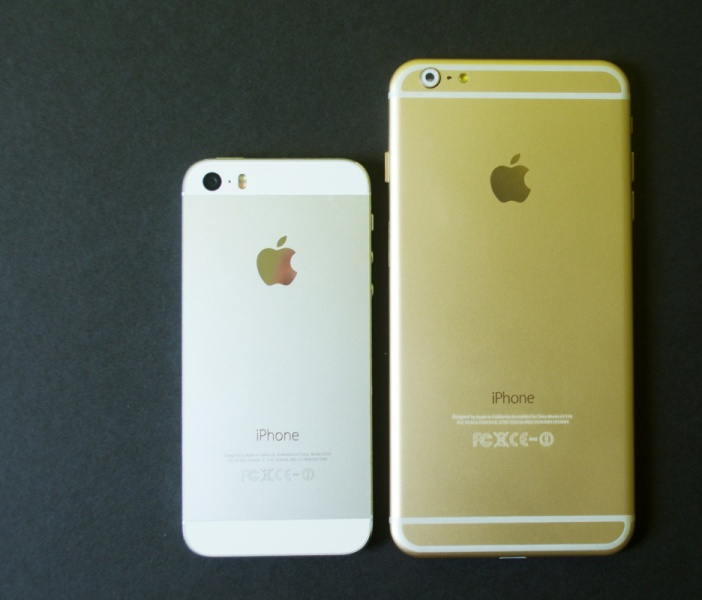apple: (251, 226, 307, 296), (485, 147, 542, 213)
